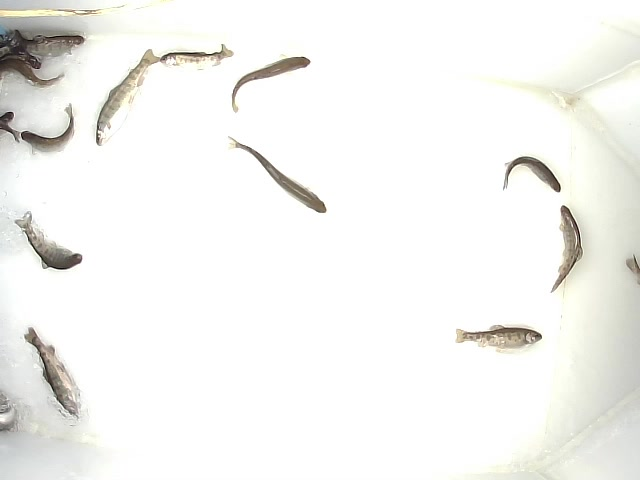fish: (225, 133, 328, 215), (95, 47, 161, 149), (23, 325, 83, 420), (231, 52, 312, 114), (12, 210, 83, 272), (547, 204, 585, 297), (21, 101, 76, 158), (453, 323, 544, 354), (500, 155, 562, 194), (157, 44, 235, 71)
